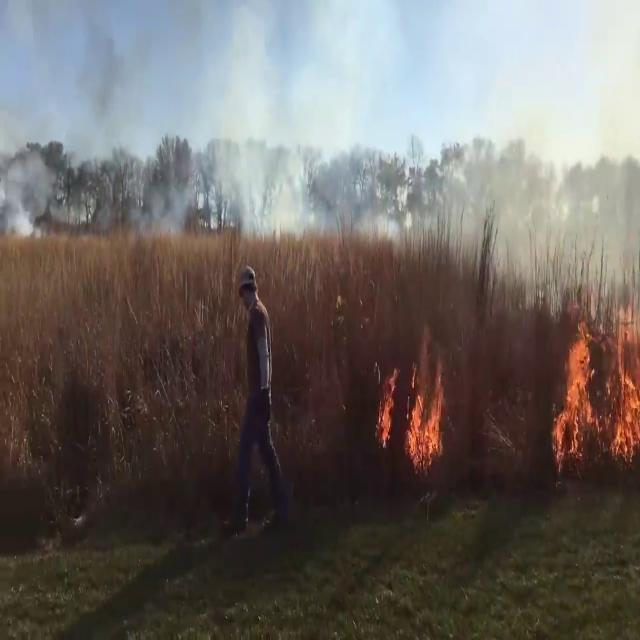Fire: (374, 330, 450, 476), (549, 326, 597, 469), (610, 292, 640, 466)
Smoke: (116, 38, 377, 249), (0, 136, 60, 242)
